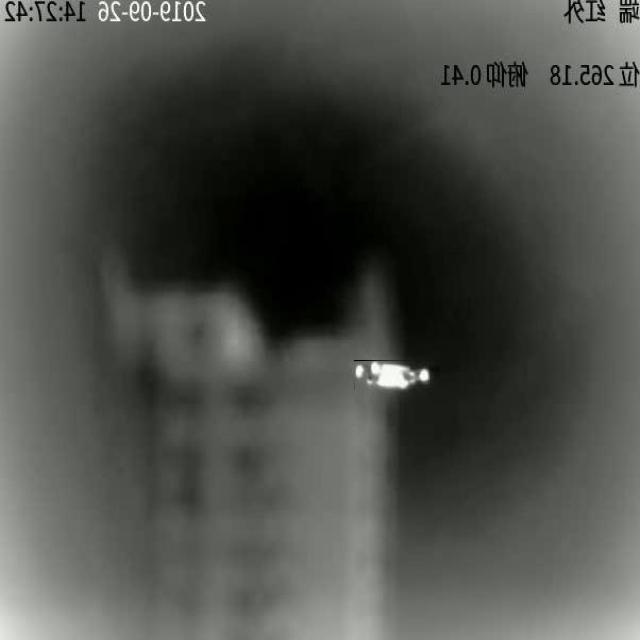drone: (354, 360, 430, 390)
